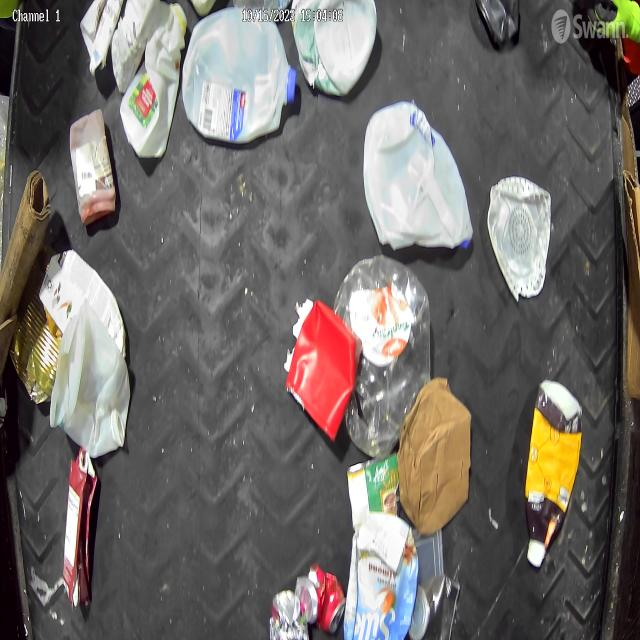can: (334, 252, 432, 462), (8, 293, 64, 406), (297, 565, 347, 634), (408, 575, 461, 640), (270, 591, 310, 640)
milk_jug: (363, 101, 474, 253), (182, 8, 296, 144), (49, 302, 131, 459), (119, 1, 186, 162), (39, 248, 128, 356), (290, 0, 377, 98)
non_white_jug: (524, 376, 583, 568), (344, 509, 419, 640), (62, 445, 98, 609)
